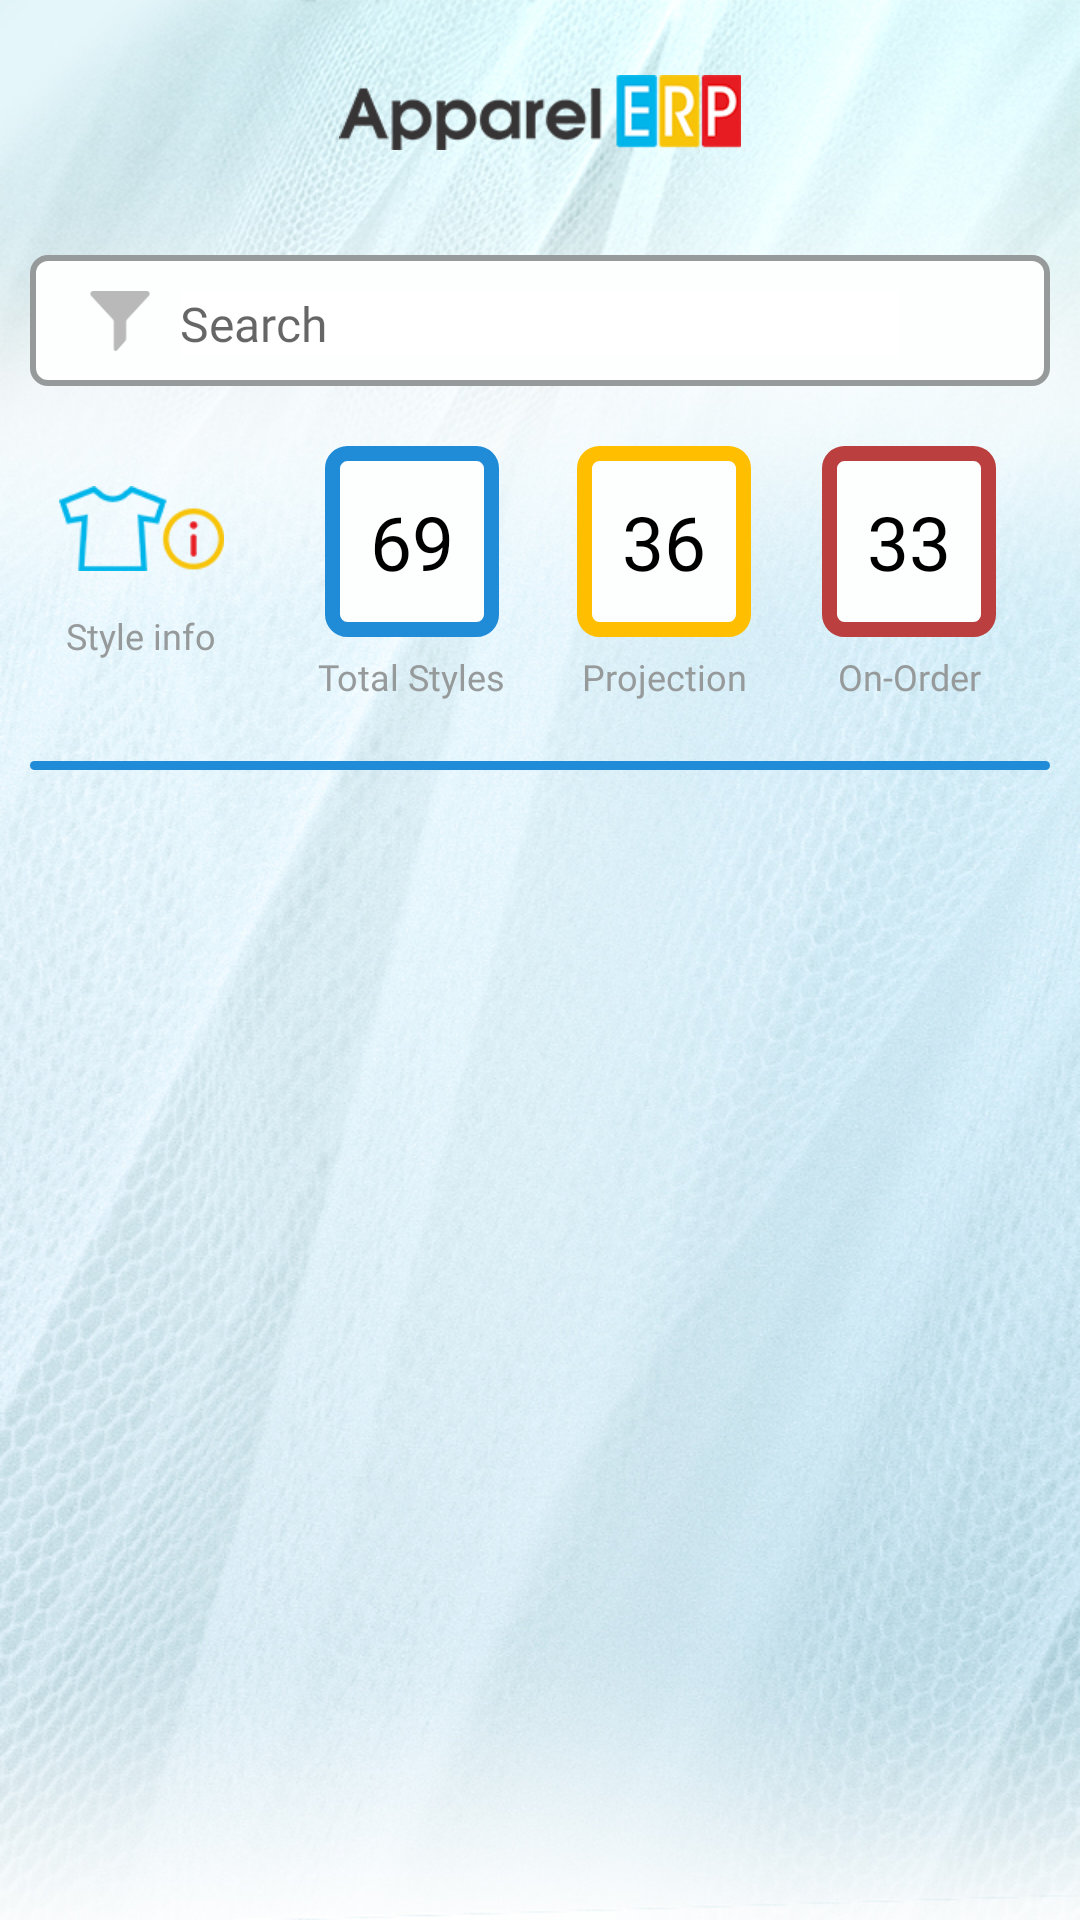

Icon click points for this 1080 × 1920 phone screenshot, format (x=x, y=y):
filtergray: (x=120, y=321)
